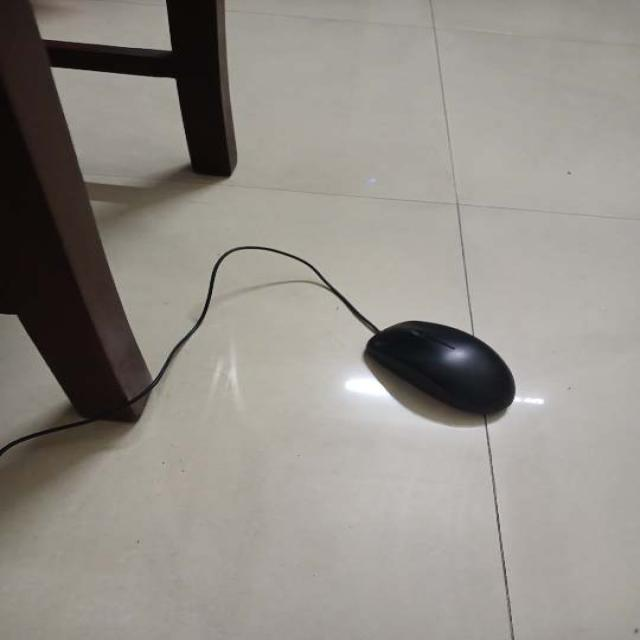mouse: (358, 310, 524, 424)
